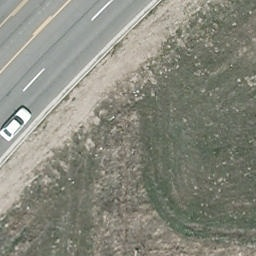car: (0, 107, 32, 143)
